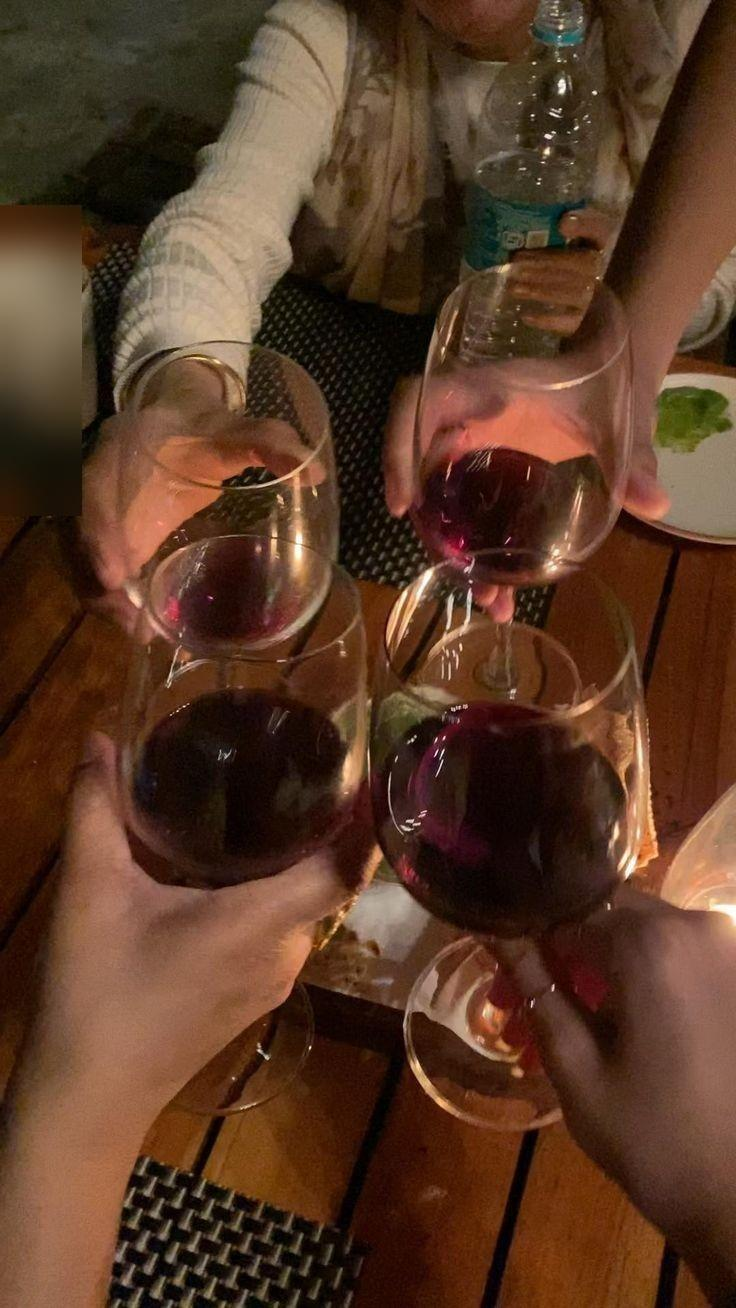bottle-plastic: (455, 0, 624, 288)
glass-wine: (100, 329, 426, 1180), (361, 536, 660, 1164), (374, 251, 638, 735)
